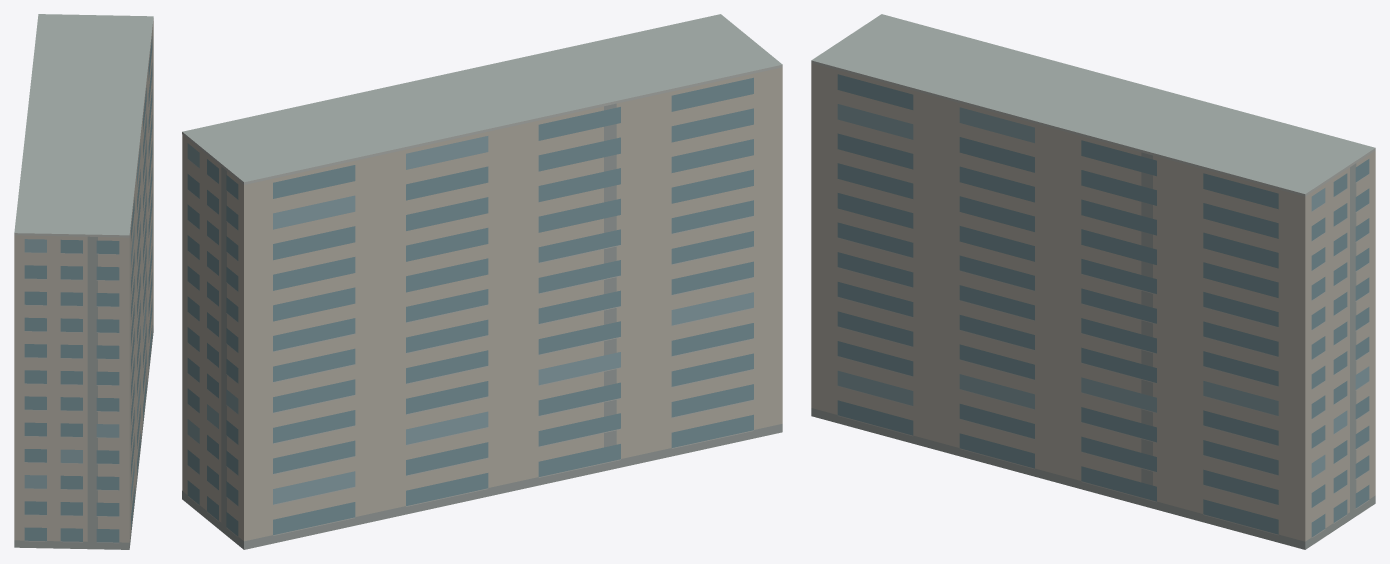
File: residential-d6ff9440-2f94-4aac-bce9-b937900d540e.glb
The picture shows the model from 3 angles, left to right: view 1: azimuth 30°, elevation 25°; view 2: azimuth 150°, elevation 25°; view 3: azimuth 270°, elevation 25°; orthographic projection. The views are drawn at different scales.
Parts seen in each view (by area): view 1: residential-d6ff9440-2f94-4aac-bce9-b937900d540e.tmp; view 2: residential-d6ff9440-2f94-4aac-bce9-b937900d540e.tmp; view 3: residential-d6ff9440-2f94-4aac-bce9-b937900d540e.tmp.
Boxes of the visible parts, x1,y1,x2,y2 form: residential-d6ff9440-2f94-4aac-bce9-b937900d540e.tmp: [14, 14, 153, 549]; residential-d6ff9440-2f94-4aac-bce9-b937900d540e.tmp: [182, 14, 782, 549]; residential-d6ff9440-2f94-4aac-bce9-b937900d540e.tmp: [811, 14, 1375, 549].
Size of the model in its own units: 36.95 by 34 by 48.9.
